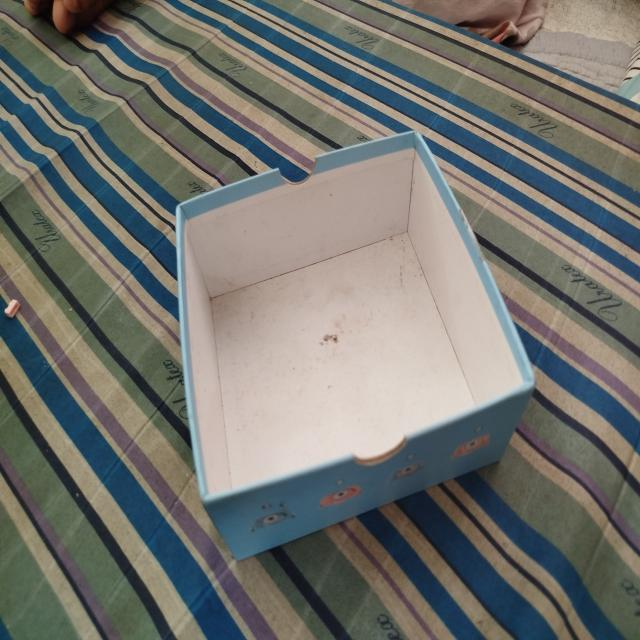paper: (168, 122, 560, 580)
